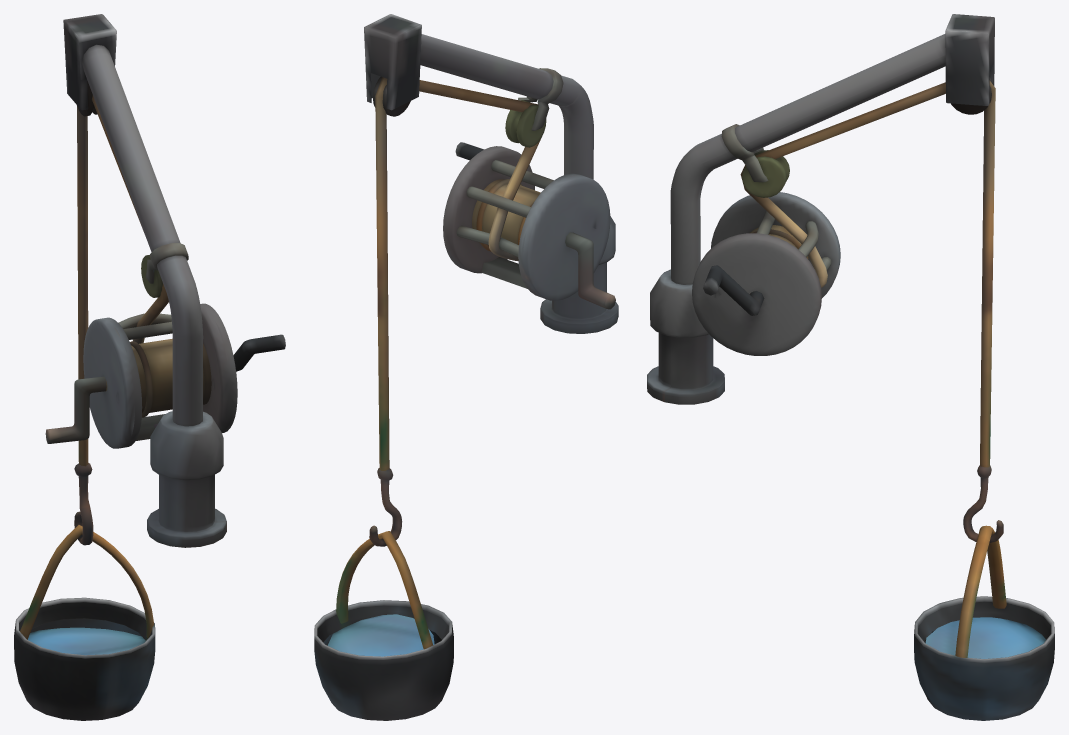
The model's file is Beach_Tavern_Pulley.glb.
The picture shows the model from 3 angles, left to right: view 1: azimuth 30°, elevation 25°; view 2: azimuth 150°, elevation 25°; view 3: azimuth 270°, elevation 25°; orthographic projection.
Visible parts, largest first — view 1: Object_2.009; view 2: Object_2.009; view 3: Object_2.009.
Part boxes in pixels (x1,y1,x2,y2): Object_2.009: [14, 14, 285, 720]; Object_2.009: [314, 14, 618, 720]; Object_2.009: [647, 14, 1054, 720].
Bounding box in the file's own units: 7.74 × 25.41 × 13.95.
1 material, 1 textured.
